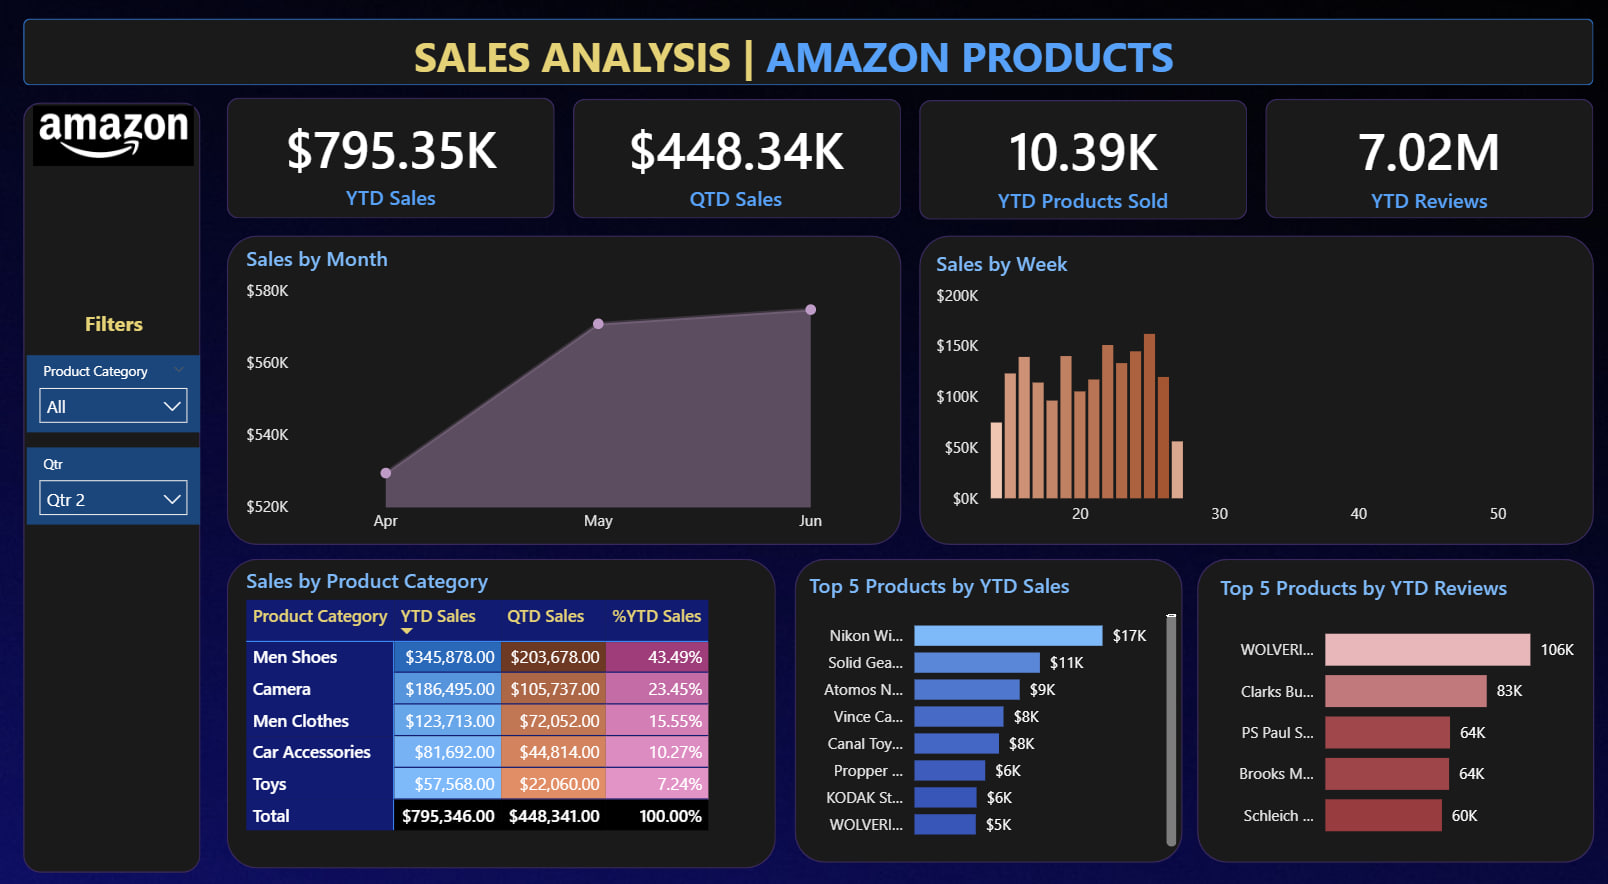

Layout of this report page (visuals, bound fields, positions):
{"tool":"powerbi","page":{"name":"Page 1","canvas":[1280,720],"ordinal":0},"visuals":[{"type":"card","fields":{"Values":["Amazon_Data.YTD Sales"]},"box":[180.9,86.4,259.1,96.4],"z":0,"group":"g1"},{"type":"shape","box":[20,88.2,140,608.2],"z":0},{"type":"card","fields":{"Values":["Amazon_Data.QTD Sales"]},"box":[453.6,87.3,259.1,96.4],"z":1000,"group":"g1"},{"type":"shape","box":[20,21.4,1240,52.9],"z":1000},{"type":"card","fields":{"Values":["Amazon_Data.YTD Products Sold"]},"box":[727.3,88.2,259.1,96.4],"z":2000,"group":"g1"},{"type":"textbox","box":[314,17,611,62.4],"z":2000},{"type":"card","fields":{"Values":["Amazon_Data.YTD Reviews"]},"box":[1000.9,88.2,259.1,96.4],"z":3000,"group":"g1"},{"type":"shape","box":[181.1,84.4,258.9,95.6],"z":3000},{"type":"shape","box":[1000.9,85.5,259.1,94.5],"z":4000},{"type":"shape","box":[727.6,86.4,259.1,94.5],"z":5000},{"type":"shape","box":[454.2,85.5,259.1,94.5],"z":6000},{"type":"group","id":"g1","title":"Group 1","box":[180.9,86.4,1079.1,98.2],"z":7000},{"type":"shape","box":[180.9,192.7,532.7,244.5],"z":8000},{"type":"areaChart","title":"Sales by Month","fields":{"Category":["Date Table.Month Name"],"Y":["Sum(Amazon_Data.Price(Dollar))"]},"box":[190.9,199.1,522.7,238.2],"z":9000},{"type":"shape","box":[727.3,192.7,532.7,244.5],"z":10000},{"type":"columnChart","title":"Sales by Week","fields":{"Category":["Date Table.Week"],"Y":["Sum(Amazon_Data.Price(Dollar))"]},"box":[735.5,203.6,515.5,228.2],"z":11000},{"type":"shape","box":[180.9,448.2,433.6,244.5],"z":12000},{"type":"pivotTable","title":"Sales by Product Category","fields":{"Rows":["Amazon_Data.Product Category"],"Values":["Amazon_Data.YTD Sales1","Amazon_Data.QTD Sales","Amazon_Data.YTD Sales"]},"box":[190.9,453.6,428.2,234.5],"z":13000},{"type":"shape","box":[629.1,448.2,306.4,240],"z":14000},{"type":"shape","box":[946.4,448.2,313.6,240],"z":15000},{"type":"clusteredBarChart","title":"Top 5 Products by YTD Sales","fields":{"Category":["Amazon_Data.Product Description"],"Y":["Amazon_Data.YTD Sales"]},"box":[635.5,458.2,300,222.7],"z":16000},{"type":"clusteredBarChart","title":"Top 5 Products by YTD Reviews","fields":{"Category":["Amazon_Data.Product Description"],"Y":["Amazon_Data.YTD Reviews"]},"box":[960,460,300,222.7],"z":17000},{"type":"image","box":[22.7,24.5,137.3,179.1],"z":18000},{"type":"slicer","fields":{"Values":["Amazon_Data.Product Category"]},"box":[22.7,287.3,137.3,60.9],"z":19000},{"type":"slicer","fields":{"Values":["Date Table.Qtr"]},"box":[22.7,360,137.3,60.9],"z":20000},{"type":"textbox","box":[22.7,246.4,137.3,40.9],"z":21000}]}

Visuals, with their boxes in screenshot pixels (x1, y1, x2, y2), scaled from the page's 1280x720 canvas onto the 1608x884 screenshot:
card - Amazon_Data.YTD Sales: rect(227, 106, 553, 224)
shape: rect(25, 108, 201, 855)
card - Amazon_Data.QTD Sales: rect(570, 107, 895, 226)
shape: rect(25, 26, 1583, 91)
card - Amazon_Data.YTD Products Sold: rect(914, 108, 1239, 227)
textbox: rect(394, 21, 1162, 97)
card - Amazon_Data.YTD Reviews: rect(1257, 108, 1583, 227)
shape: rect(228, 104, 553, 221)
shape: rect(1257, 105, 1583, 221)
shape: rect(914, 106, 1240, 222)
shape: rect(571, 105, 896, 221)
"Group 1" group: rect(227, 106, 1583, 227)
shape: rect(227, 237, 896, 537)
"Sales by Month" areaChart: rect(240, 244, 896, 537)
shape: rect(914, 237, 1583, 537)
"Sales by Week" columnChart: rect(924, 250, 1572, 530)
shape: rect(227, 550, 772, 850)
"Sales by Product Category" pivotTable: rect(240, 557, 778, 845)
shape: rect(790, 550, 1175, 845)
shape: rect(1189, 550, 1583, 845)
"Top 5 Products by YTD Sales" clusteredBarChart: rect(798, 563, 1175, 836)
"Top 5 Products by YTD Reviews" clusteredBarChart: rect(1206, 565, 1583, 838)
image: rect(29, 30, 201, 250)
slicer - Amazon_Data.Product Category: rect(29, 353, 201, 428)
slicer - Date Table.Qtr: rect(29, 442, 201, 517)
textbox: rect(29, 303, 201, 353)
